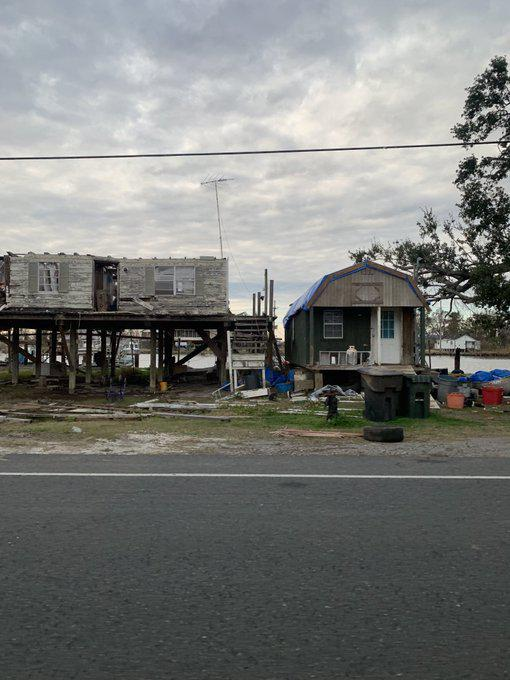destroyed: (0, 220, 280, 387)
minor: (277, 260, 431, 386)
